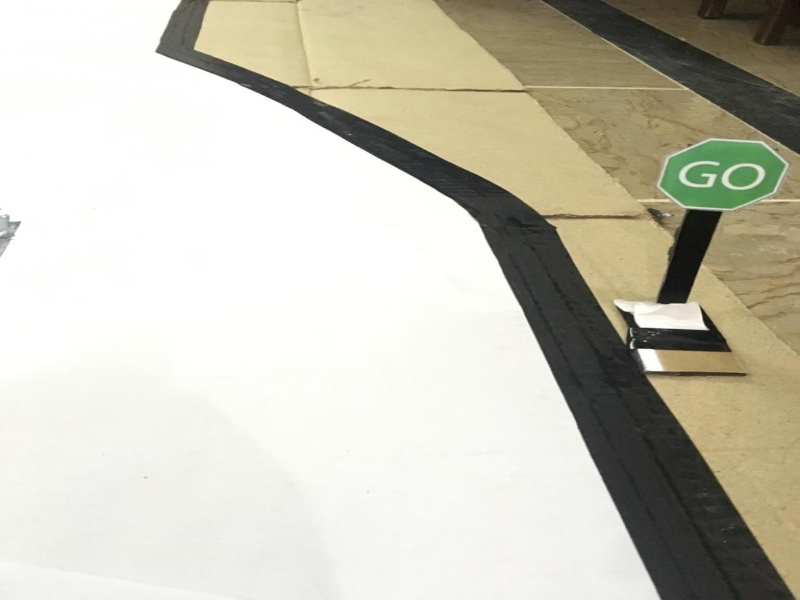Go: (658, 127, 791, 210)
